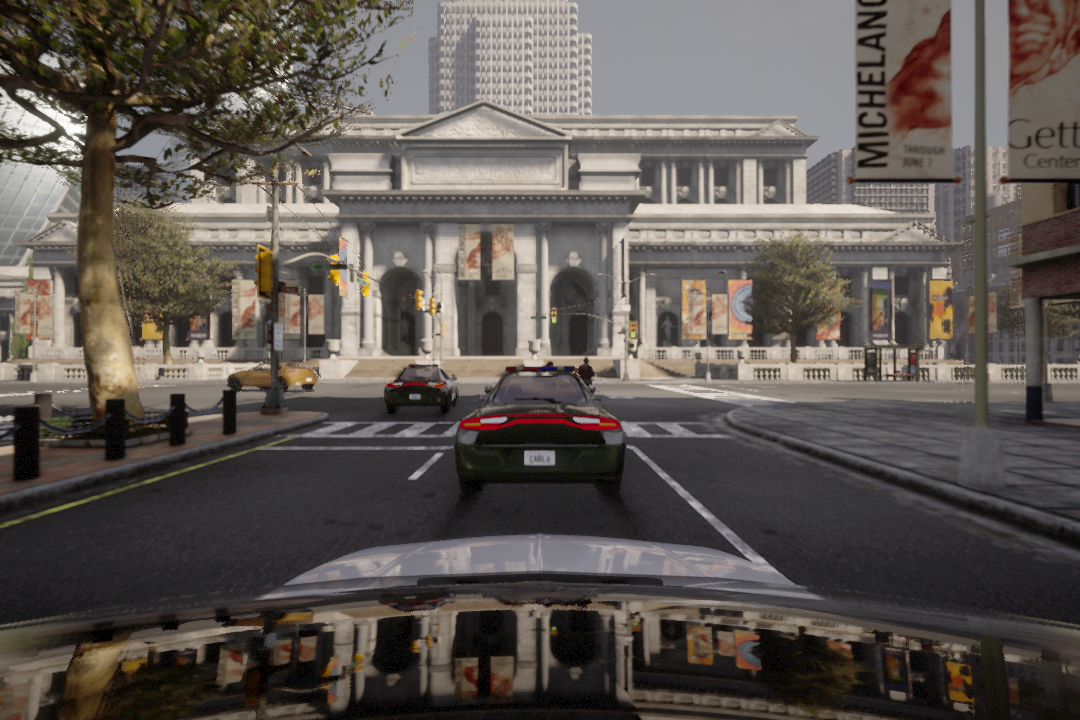TrafficLight: (628, 320, 641, 342), (549, 307, 557, 326)
walkside: (296, 417, 723, 441)
